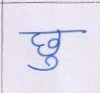u_matra: (27, 55, 61, 72)
